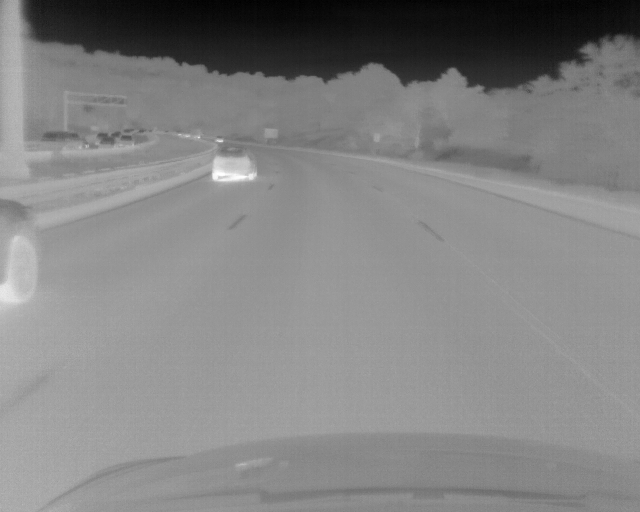car: (1, 195, 42, 305), (211, 148, 258, 181), (70, 133, 99, 148), (41, 131, 65, 147), (119, 135, 134, 147), (94, 132, 110, 143), (99, 137, 115, 147), (215, 135, 225, 143)
